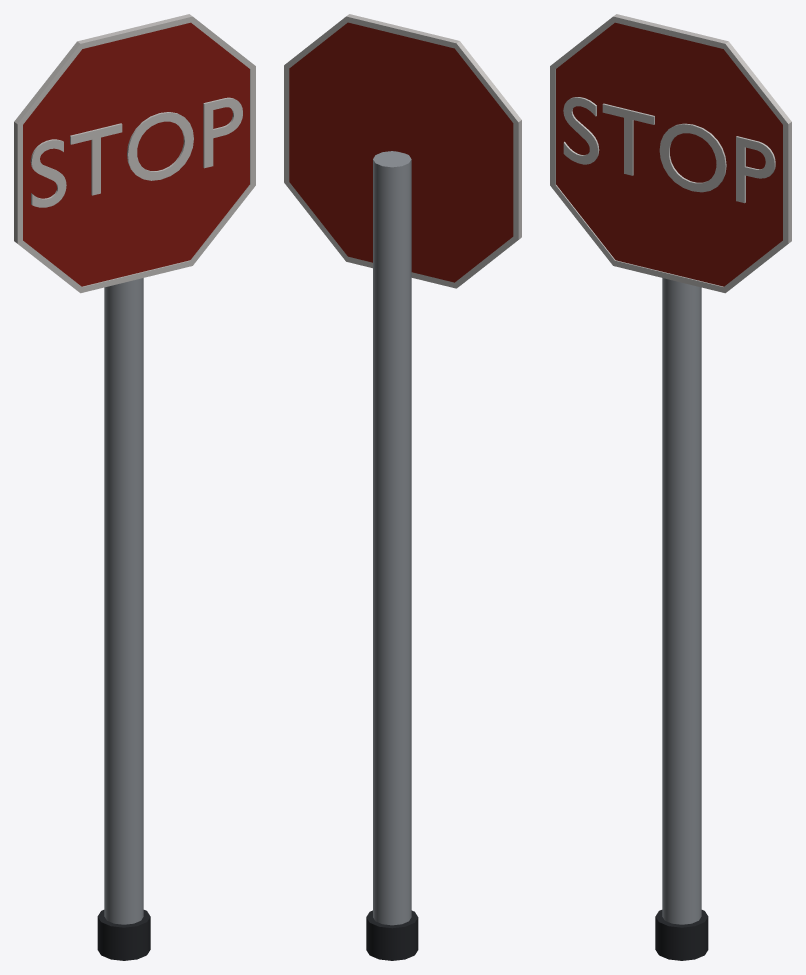
The model's file is TrafficSign_3.fbx.
3 renders of one model, left to right at view 1: azimuth 30°, elevation 25°; view 2: azimuth 150°, elevation 25°; view 3: azimuth 330°, elevation 25°, orthographic.
Visible parts, largest first — view 1: TrafficSign_3; view 2: TrafficSign_3; view 3: TrafficSign_3.
Part boxes in pixels (left/top/right/bottom): TrafficSign_3: left=14, top=14, right=255, bottom=960; TrafficSign_3: left=284, top=14, right=521, bottom=960; TrafficSign_3: left=550, top=14, right=791, bottom=960.
Bounding box in the file's own units: 55.31 × 206 × 10.64.
